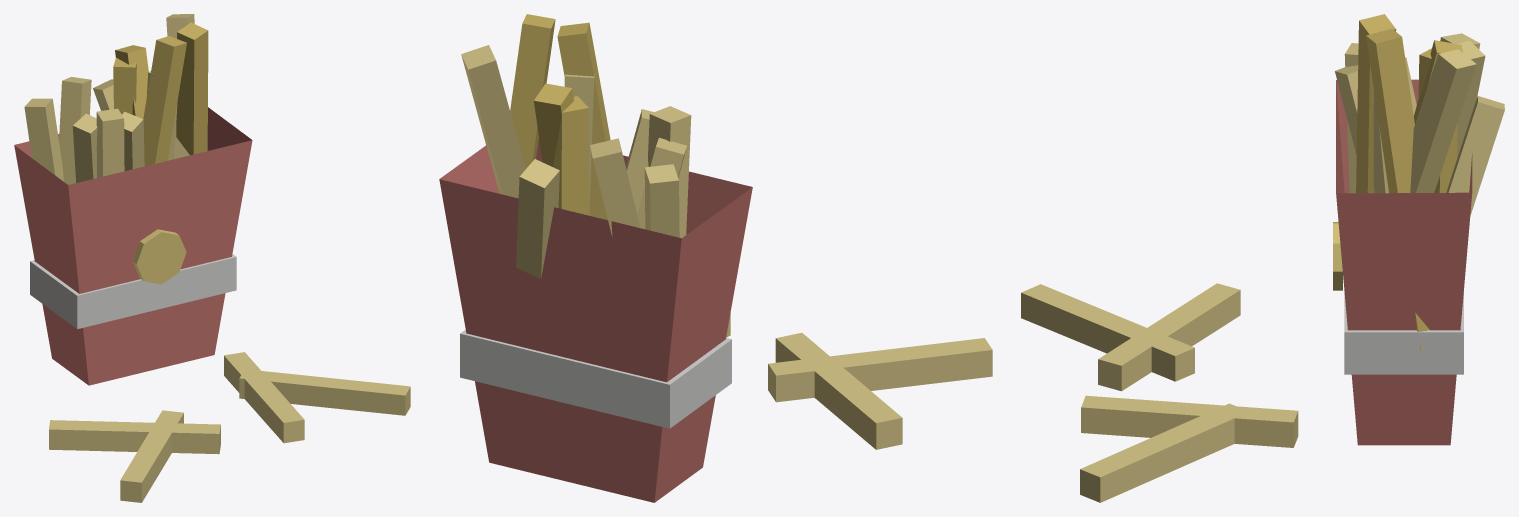
The model's file is litter_fries.glb.
3 renders of one model, left to right at view 1: azimuth 30°, elevation 25°; view 2: azimuth 150°, elevation 25°; view 3: azimuth 270°, elevation 25°, orthographic. The views are drawn at different scales.
Parts seen in each view (by area): view 1: litter_fries; view 2: litter_fries; view 3: litter_fries.
Part boxes in pixels (box(x1,y1,x2,y2)): litter_fries: box(14, 14, 410, 502); litter_fries: box(439, 14, 992, 502); litter_fries: box(1021, 14, 1504, 502).
Size of the model in its own units: 0.1385 by 0.1347 by 0.1459.
